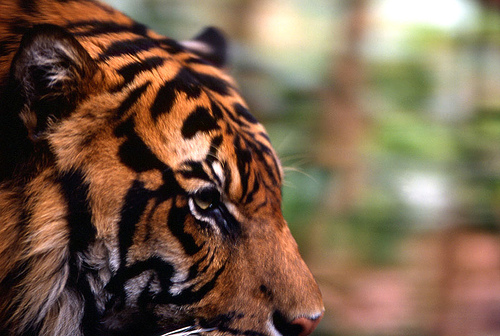Tigre: (35, 41, 320, 329)
